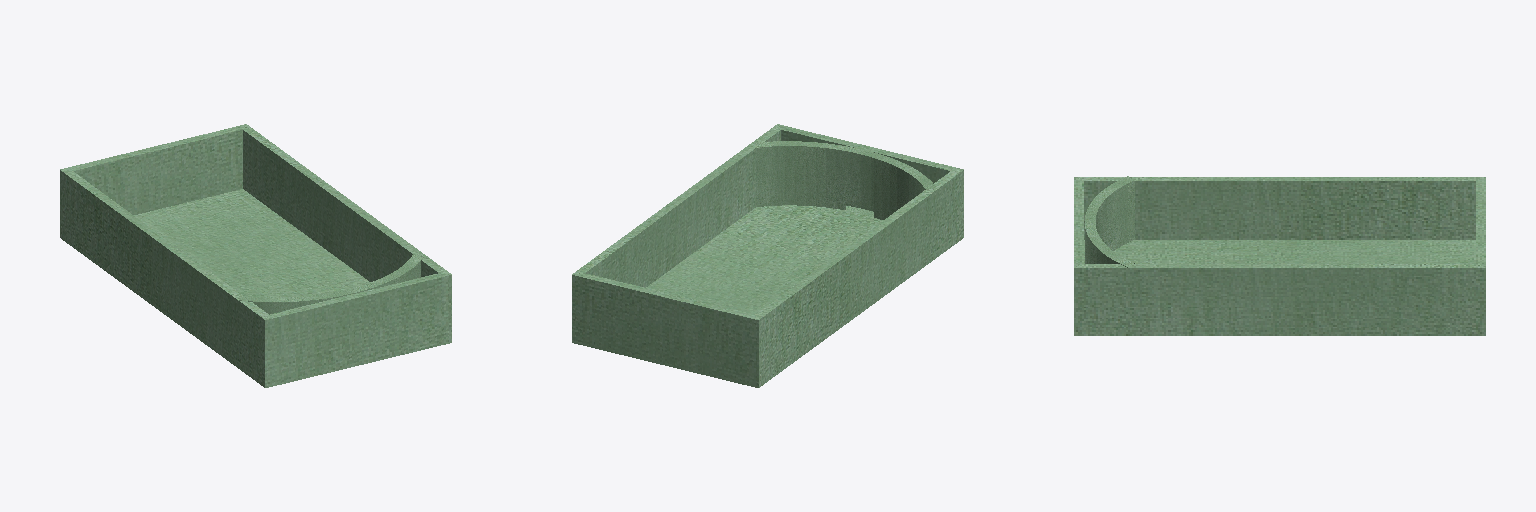
The picture shows the model from 3 angles: view 1: azimuth 30°, elevation 25°; view 2: azimuth 150°, elevation 25°; view 3: azimuth 270°, elevation 25°; orthographic projection.
Parts seen in each view (by area): view 1: board_Cube, board_bottom_Cube.002; view 2: board_Cube, board_bottom_Cube.002; view 3: board_Cube, board_bottom_Cube.002.
Part boxes in pixels (bbox=[...]): board_Cube: bbox=[60, 124, 451, 387]; board_bottom_Cube.002: bbox=[239, 254, 424, 314]; board_Cube: bbox=[572, 124, 963, 387]; board_bottom_Cube.002: bbox=[751, 141, 936, 219]; board_Cube: bbox=[1074, 177, 1485, 335]; board_bottom_Cube.002: bbox=[1085, 176, 1134, 267].
Size of the model in its own units: 6.61 by 2.32 by 12.62.
2 materials, 1 textured.